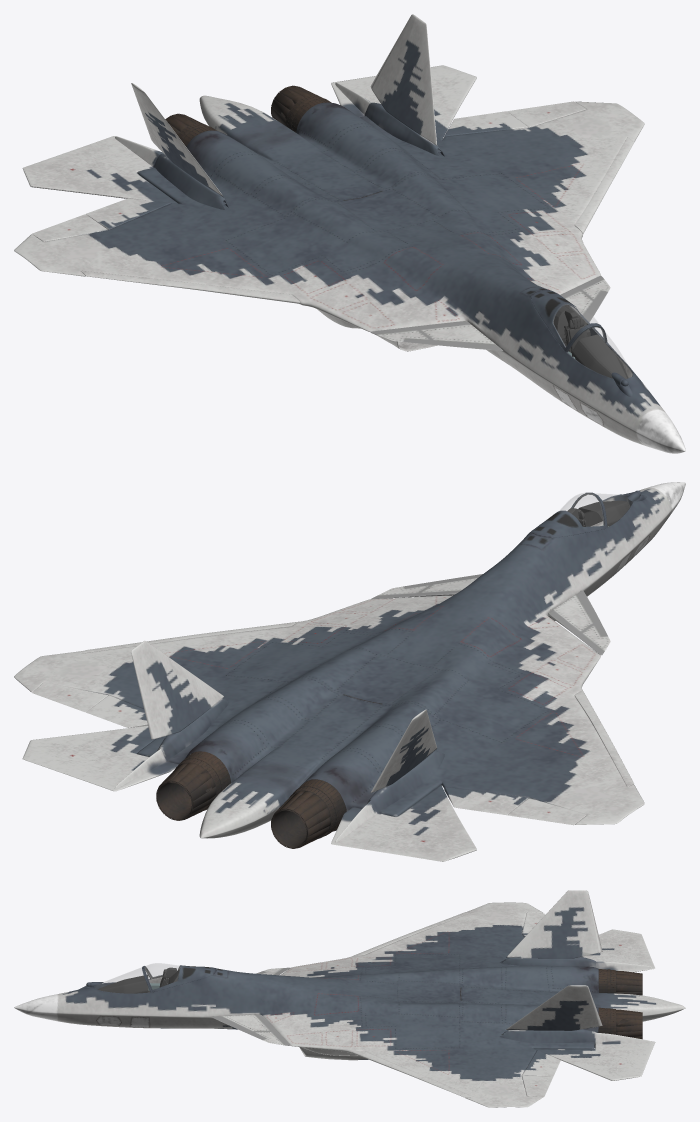
3 views of the same model, one above another, from view 1: azimuth 30°, elevation 25°; view 2: azimuth 150°, elevation 25°; view 3: azimuth 270°, elevation 25° (orthographic). The views are drawn at different scales.
Parts seen in each view (by area): view 1: Main_Body.001, Stab.001, L-vertical, Stab.002, R-vertical, Cube.044, Cube.005, Canopy01, Cube.045, Slat.001, L-engine, Cube.022 (+9 smaller); view 2: Main_Body.001, Stab.001, Stab.002, L-vertical, R-engine, L-engine, R-vertical, Cube.005, Cube.044, Cube.045, Flaps.002, Cube.054 (+9 smaller); view 3: Main_Body.001, R-vertical, Stab.002, L-vertical, Stab.001, Cube.045, L-engine, Cube.005, Cube.054, R-engine, Canopy01, Canopy03 (+6 smaller).
Boxes of the visible parts, bbox=[...] form: Main_Body.001: bbox=[14, 95, 685, 453]; Stab.001: bbox=[22, 136, 177, 203]; L-vertical: bbox=[370, 14, 437, 145]; Stab.002: bbox=[331, 65, 476, 140]; R-vertical: bbox=[131, 83, 223, 197]; Cube.044: bbox=[371, 321, 502, 350]; Cube.005: bbox=[115, 136, 444, 209]; Canopy01: bbox=[568, 326, 631, 377]; Cube.045: bbox=[335, 82, 444, 155]; Slat.001: bbox=[81, 225, 582, 303]; L-engine: bbox=[271, 85, 331, 132]; Cube.022: bbox=[572, 334, 628, 378]; Main_Body.001: bbox=[14, 482, 685, 838]; Stab.001: bbox=[331, 785, 476, 861]; Stab.002: bbox=[22, 725, 178, 791]; L-vertical: bbox=[131, 640, 223, 739]; R-engine: bbox=[271, 779, 346, 848]; L-engine: bbox=[156, 751, 230, 820]; R-vertical: bbox=[370, 709, 436, 792]; Cube.005: bbox=[335, 750, 444, 842]; Cube.044: bbox=[548, 590, 610, 655]; Cube.045: bbox=[115, 698, 228, 788]; Flaps.002: bbox=[444, 787, 528, 814]; Cube.054: bbox=[371, 574, 482, 599]; Main_Body.001: bbox=[14, 902, 685, 1107]; R-vertical: bbox=[506, 890, 602, 958]; Stab.002: bbox=[535, 1041, 655, 1080]; L-vertical: bbox=[506, 985, 602, 1030]; Stab.001: bbox=[581, 929, 655, 972]; Cube.045: bbox=[500, 1029, 651, 1043]; L-engine: bbox=[598, 1007, 642, 1039]; Cube.005: bbox=[500, 957, 651, 1034]; Cube.054: bbox=[211, 1014, 290, 1045]; R-engine: bbox=[598, 969, 642, 995]; Canopy01: bbox=[95, 967, 149, 992]; Canopy03: bbox=[143, 965, 216, 992].
Size of the model in its own units: 12.37 by 2.78 by 17.17.
6 materials, 3 textured.
